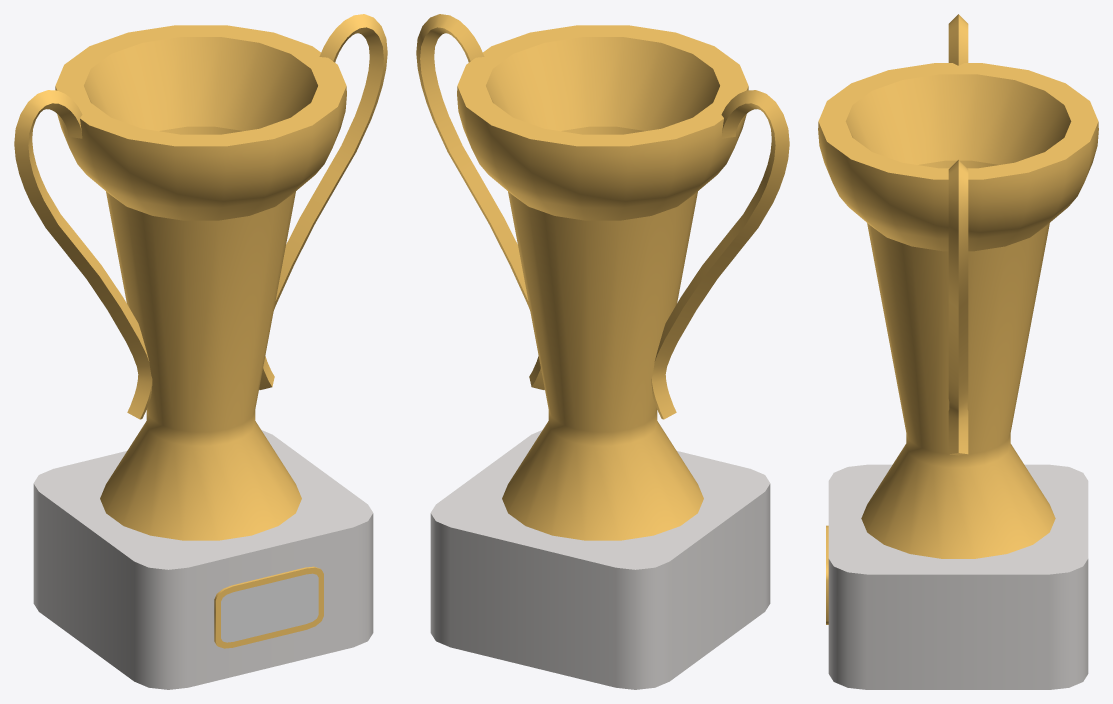
The model's file is Gold Cup.fbx.
The picture shows the model from 3 angles, left to right: view 1: azimuth 30°, elevation 25°; view 2: azimuth 150°, elevation 25°; view 3: azimuth 270°, elevation 25°; orthographic projection. The views are drawn at different scales.
Parts seen in each view (by area): view 1: Gold Cup; view 2: Gold Cup; view 3: Gold Cup.
Part boxes in pixels (box(x1,y1,x2,y2)): Gold Cup: box(14, 14, 387, 689); Gold Cup: box(416, 14, 789, 689); Gold Cup: box(818, 14, 1098, 689).
Size of the model in its own units: 0.6977 by 1.01 by 0.4724.
